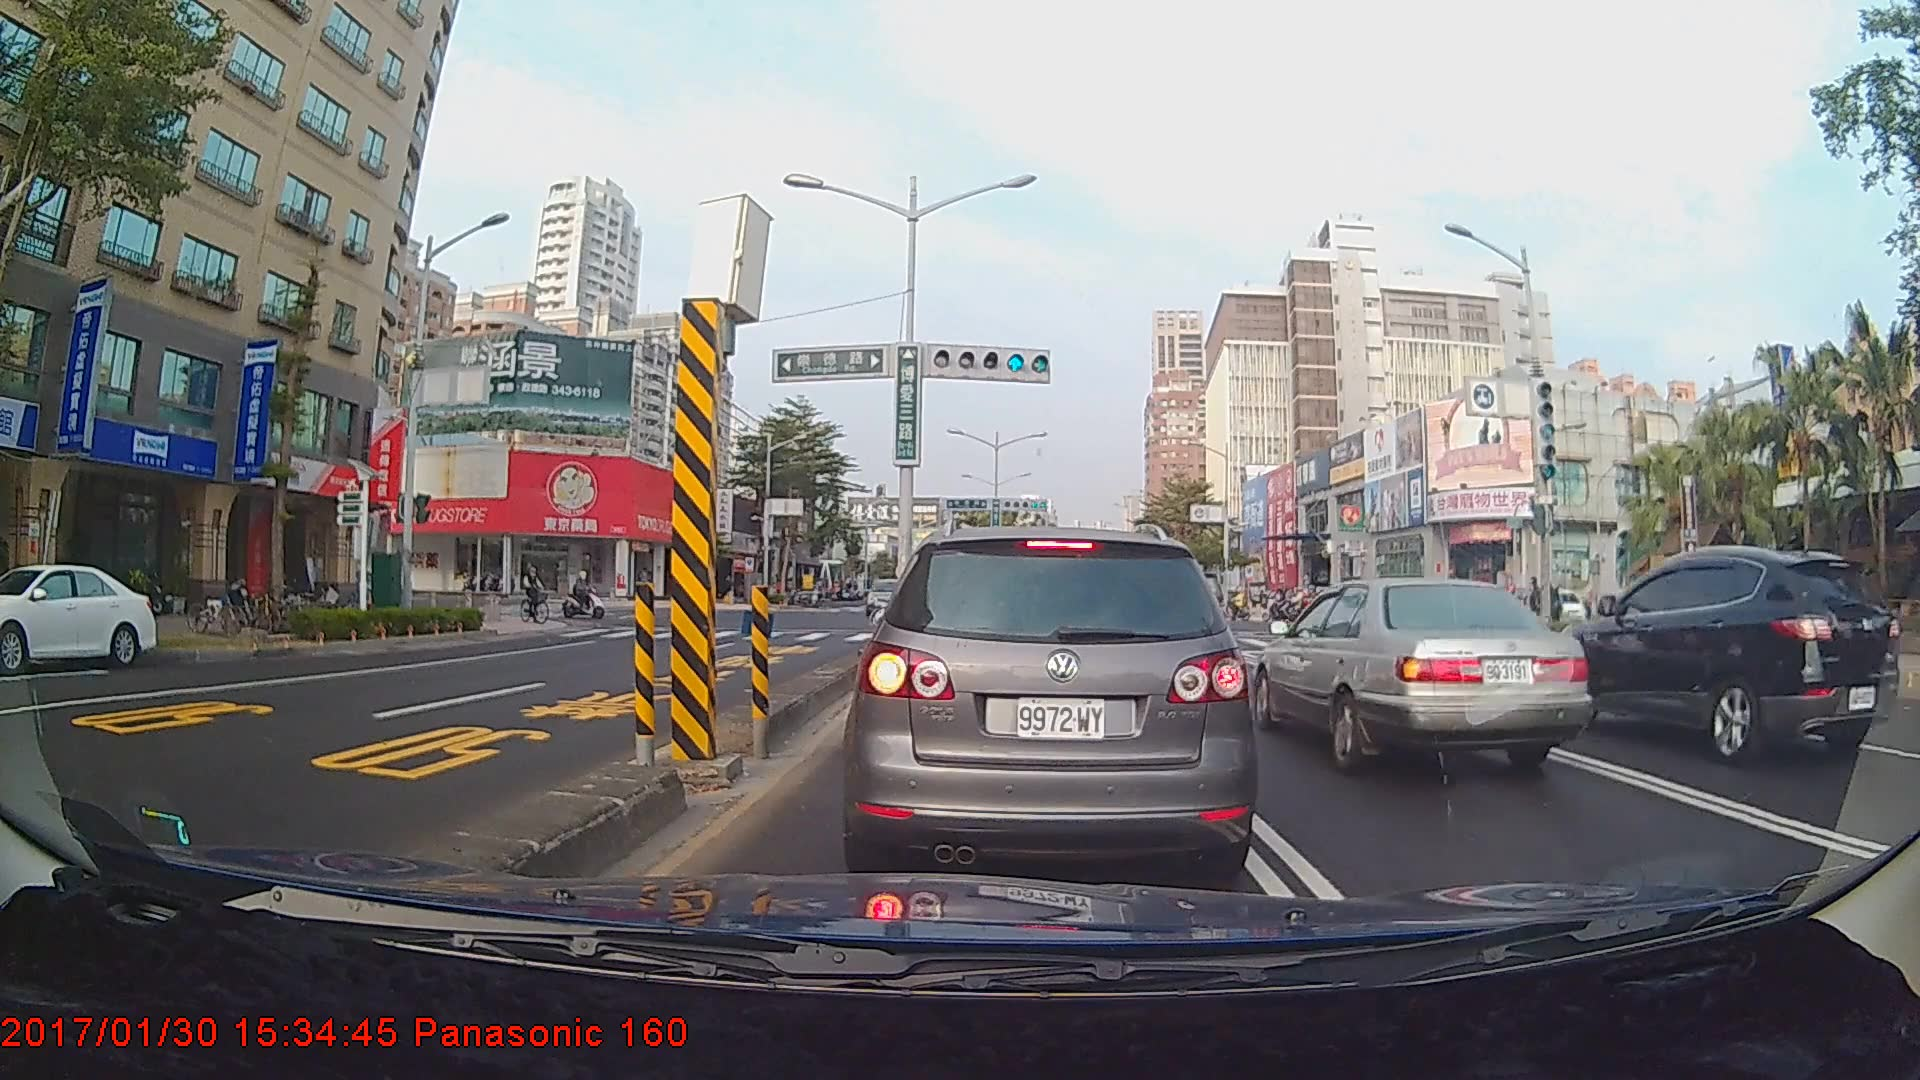rider: (518, 559, 561, 629), (564, 568, 615, 625)
vehicle: (851, 523, 1250, 884), (1559, 544, 1900, 767), (1250, 574, 1596, 772), (0, 561, 162, 671), (863, 577, 916, 618)
